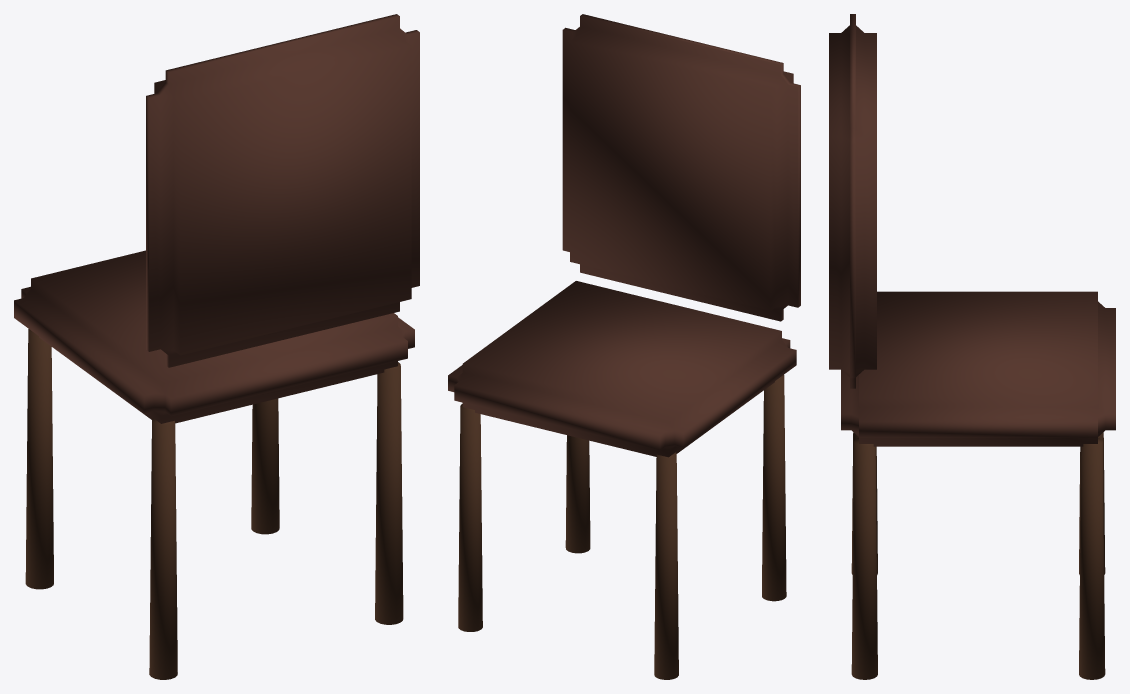
Rendered from chair.glb.
3 views of the same model, side by side, from view 1: azimuth 30°, elevation 25°; view 2: azimuth 150°, elevation 25°; view 3: azimuth 270°, elevation 25° (orthographic). The views are drawn at different scales.
Parts seen in each view (by area): view 1: ChairBack, ChairSeat, ChairLeg0, ChairLeg1, ChairLeg2, ChairLeg3; view 2: ChairBack, ChairSeat, ChairLeg2, ChairLeg3, ChairLeg0, ChairLeg1; view 3: ChairSeat, ChairBack, ChairLeg1, ChairLeg3, ChairLeg0, ChairLeg2.
Boxes of the visible parts, <box> form: ChairBack: <box>146,14,419,367</box>; ChairSeat: <box>14,250,414,423</box>; ChairLeg0: <box>149,418,177,679</box>; ChairLeg1: <box>375,362,403,624</box>; ChairLeg2: <box>25,329,53,589</box>; ChairLeg3: <box>251,398,279,534</box>; ChairBack: <box>562,14,800,321</box>; ChairSeat: <box>448,281,796,457</box>; ChairLeg2: <box>654,452,678,679</box>; ChairLeg3: <box>458,404,482,631</box>; ChairLeg0: <box>762,375,786,601</box>; ChairLeg1: <box>565,435,590,553</box>; ChairSeat: <box>841,291,1115,446</box>; ChairBack: <box>829,14,876,388</box>; ChairLeg1: <box>851,438,877,679</box>; ChairLeg3: <box>1079,438,1105,679</box>; ChairLeg0: <box>851,432,877,574</box>; ChairLeg2: <box>1079,432,1105,574</box>.
Bounding box in the file's own units: 0.48 × 1.03 × 0.48.
